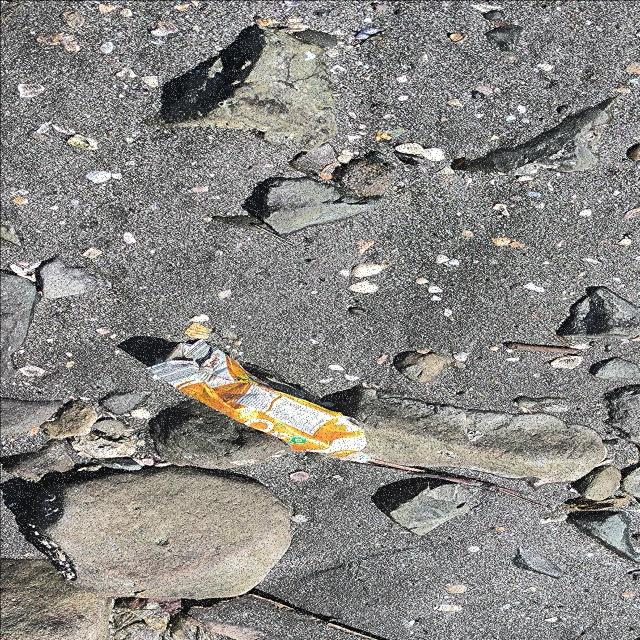plastic_waste: (147, 341, 368, 458)
